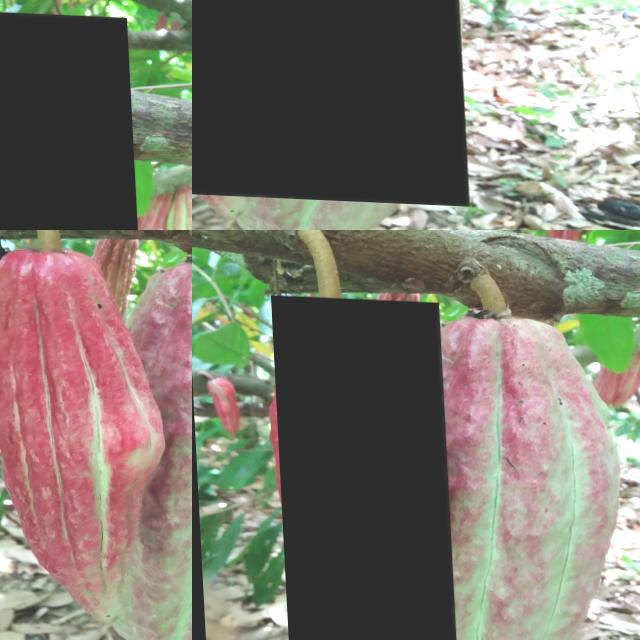Monilia: (268, 294, 451, 640), (0, 2, 145, 230)
Sana: (433, 305, 618, 640), (192, 0, 463, 202), (625, 339, 640, 450), (204, 379, 233, 436)
